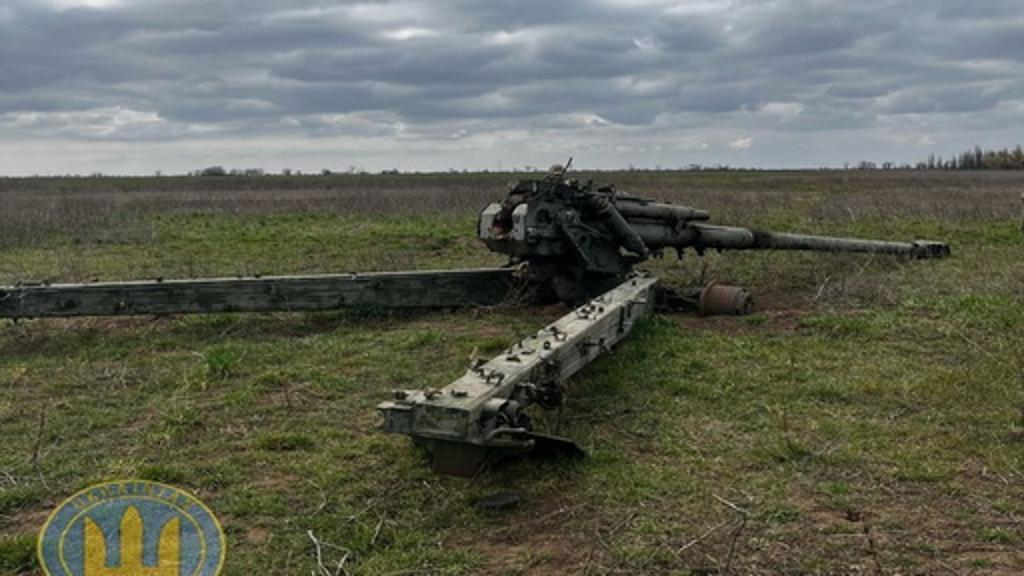ART: (390, 168, 962, 462)
